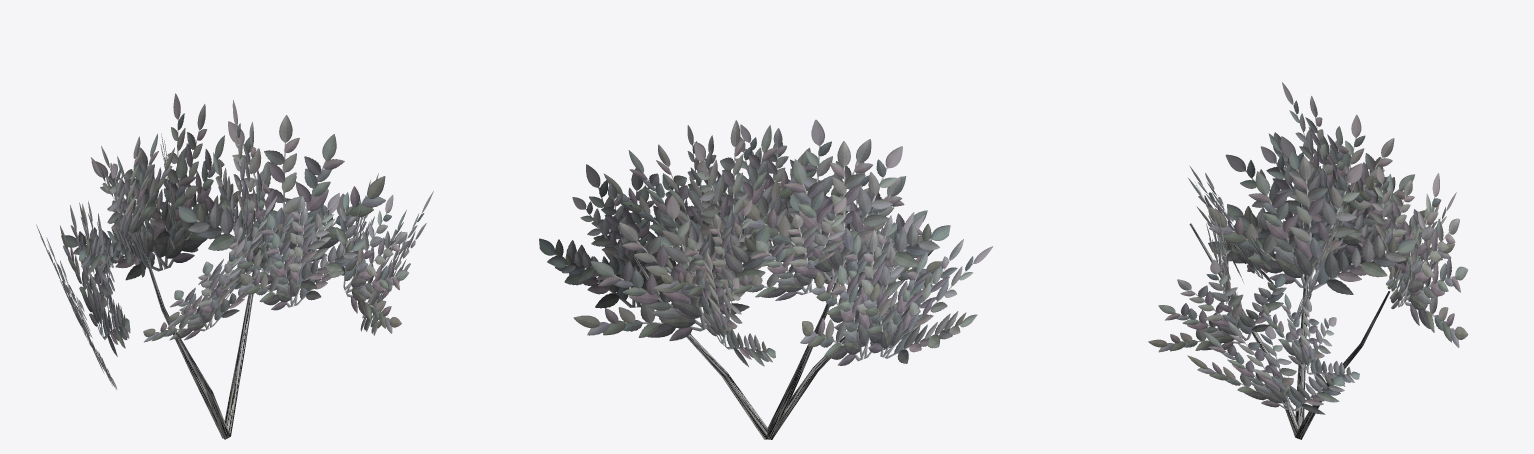
The model's file is bush_broad_l1.gltf.
3 views of the same model, side by side, from view 1: azimuth 30°, elevation 25°; view 2: azimuth 150°, elevation 25°; view 3: azimuth 270°, elevation 25° (orthographic). The views are drawn at different scales.
Visible parts, largest first — view 1: bush_broad_l1; view 2: bush_broad_l1; view 3: bush_broad_l1.
Part boxes in pixels (<box>): bush_broad_l1: <box>36,93,433,439</box>; bush_broad_l1: <box>539,119,992,439</box>; bush_broad_l1: <box>1148,82,1468,439</box>.
Bounding box in the file's own units: 3.18 × 2.65 × 2.73.
2 materials, 2 textured.
